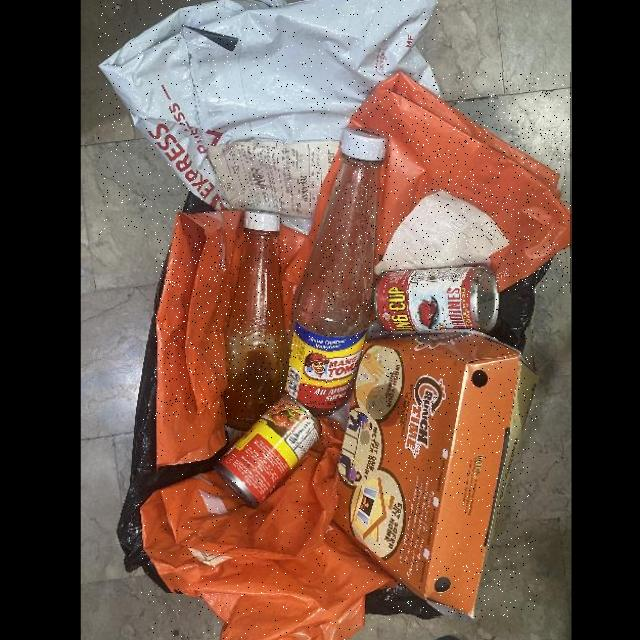glass: (282, 127, 387, 417), (223, 210, 289, 431)
metal: (213, 395, 321, 509), (374, 266, 499, 334)
paper: (334, 328, 537, 617)
plastic: (98, 0, 441, 235), (140, 417, 397, 640), (349, 73, 571, 293), (156, 209, 312, 467), (288, 148, 342, 286)
